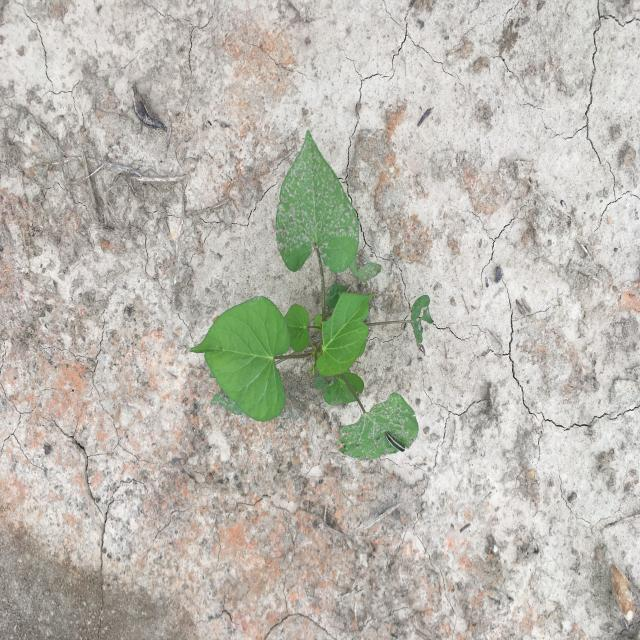MorningGlory: (189, 130, 435, 462)
